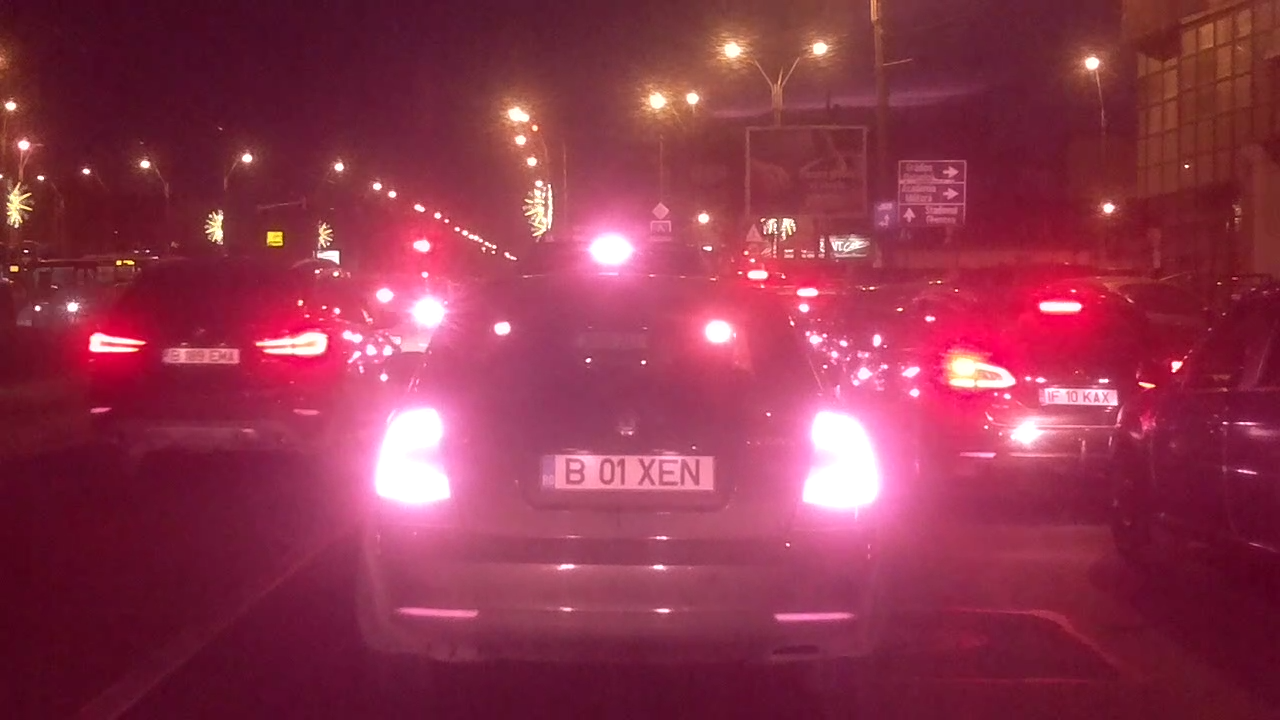license-plate: (536, 450, 718, 494), (1035, 386, 1120, 408), (158, 344, 243, 366)
